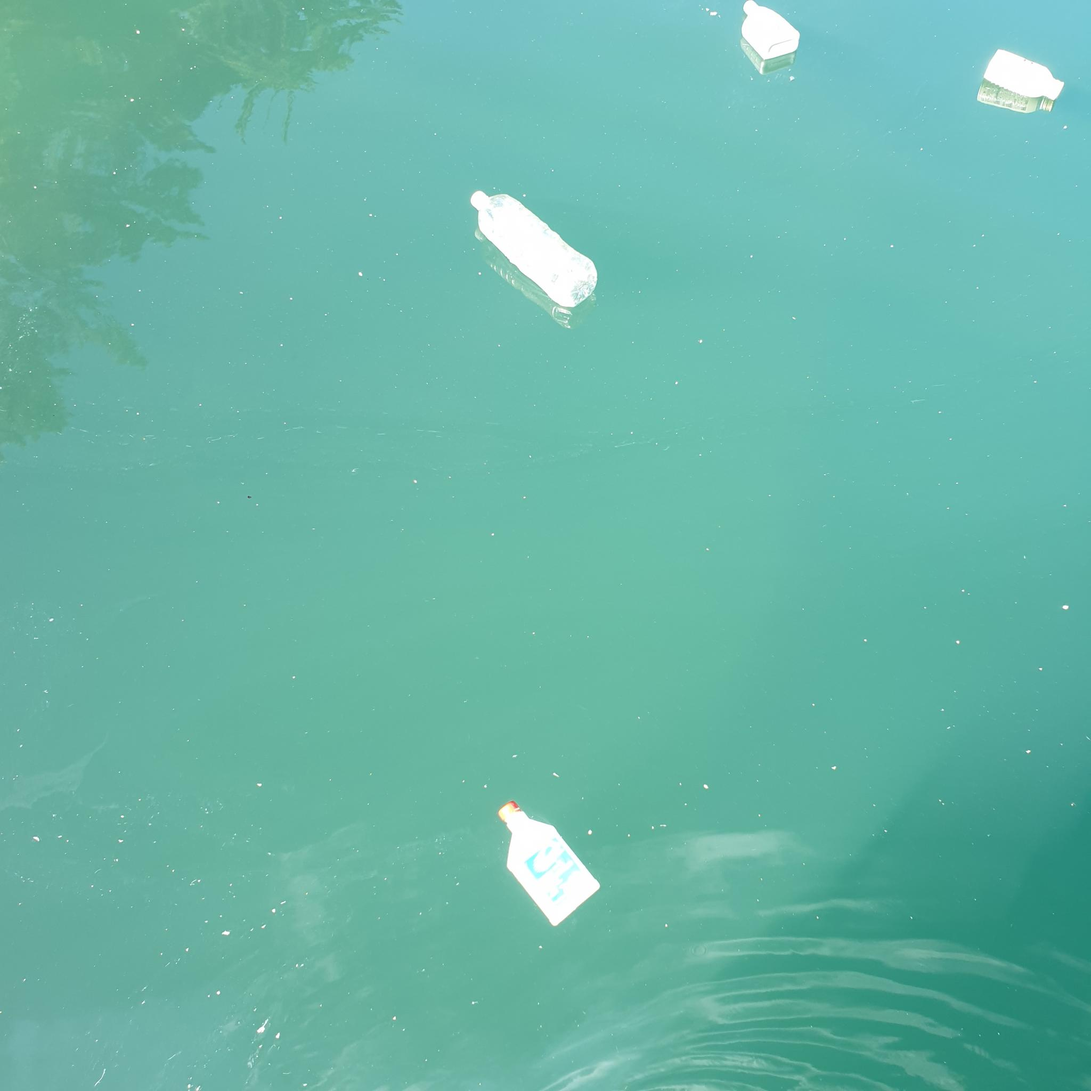sampah_terapung: (471, 191, 598, 308), (498, 802, 601, 927), (984, 49, 1065, 101), (742, 1, 801, 60)
